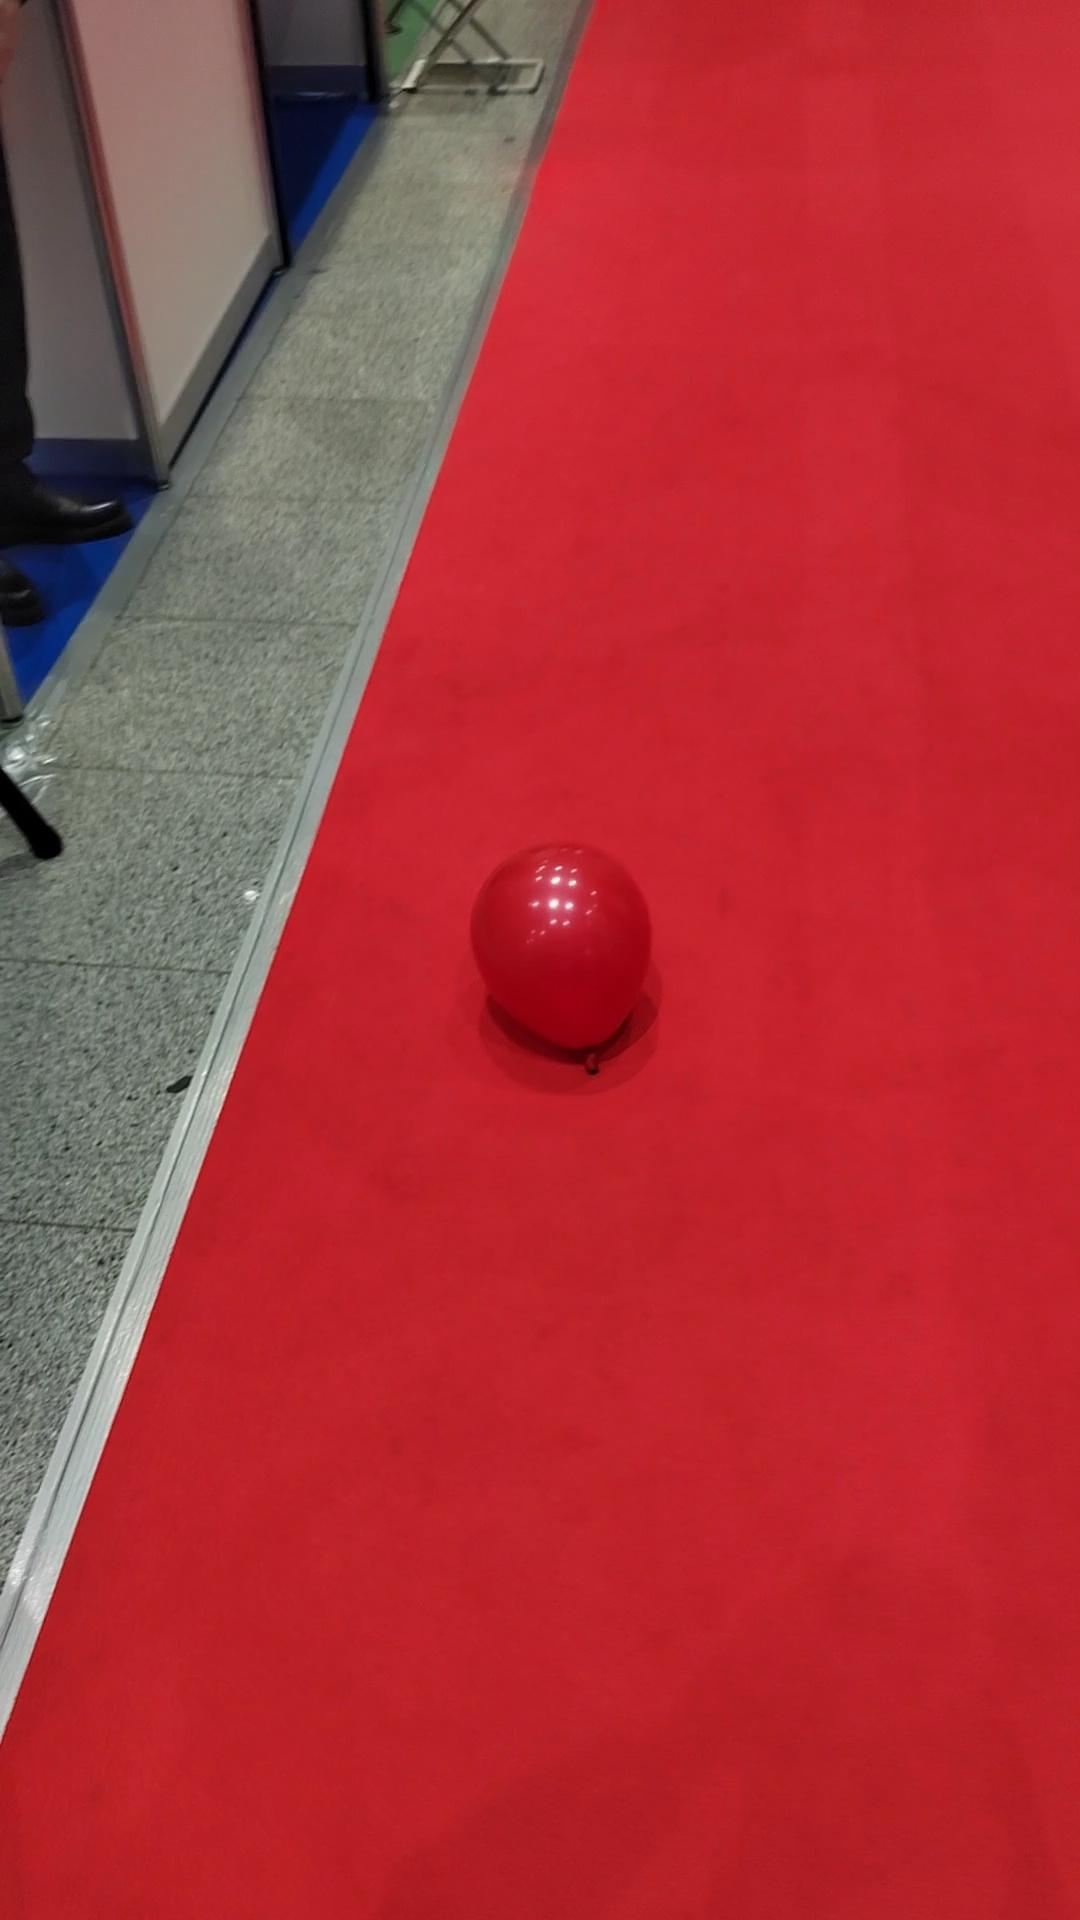red: (468, 829, 654, 1059)
